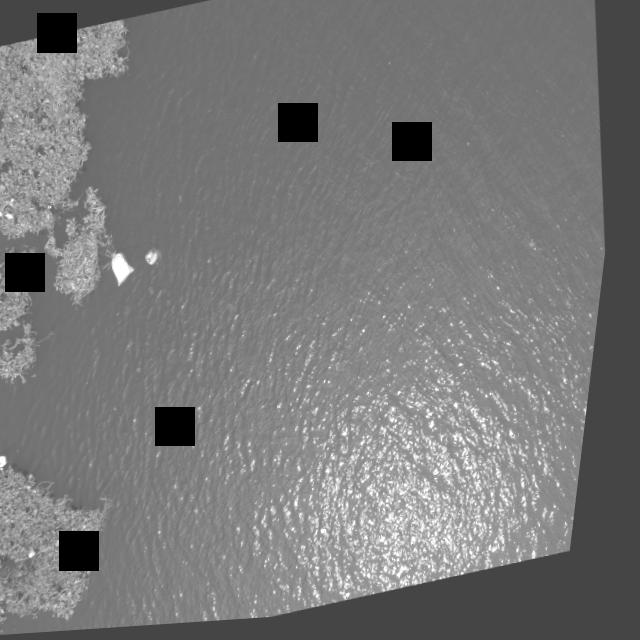plastic: (102, 234, 149, 302), (144, 236, 177, 272), (0, 446, 26, 478), (0, 197, 23, 227), (36, 547, 52, 565), (78, 257, 93, 276), (34, 256, 42, 265)
